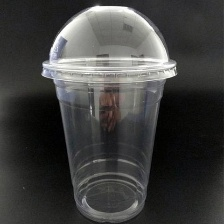glass: (35, 2, 179, 223)
